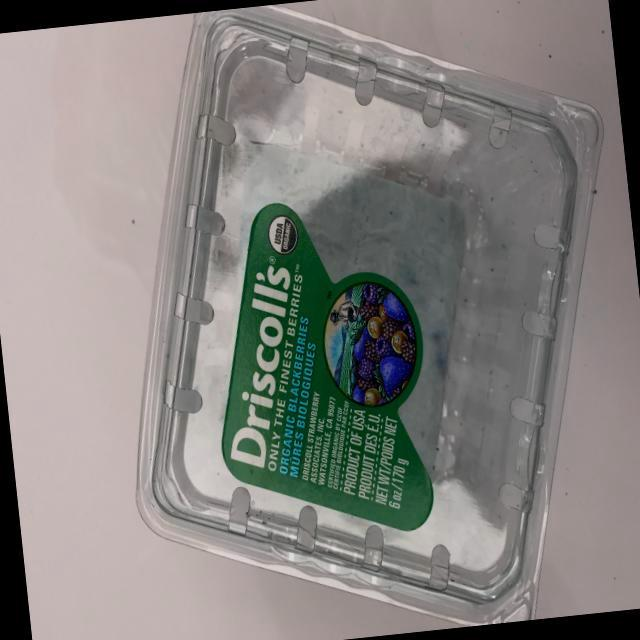plastic: (77, 0, 640, 640)
